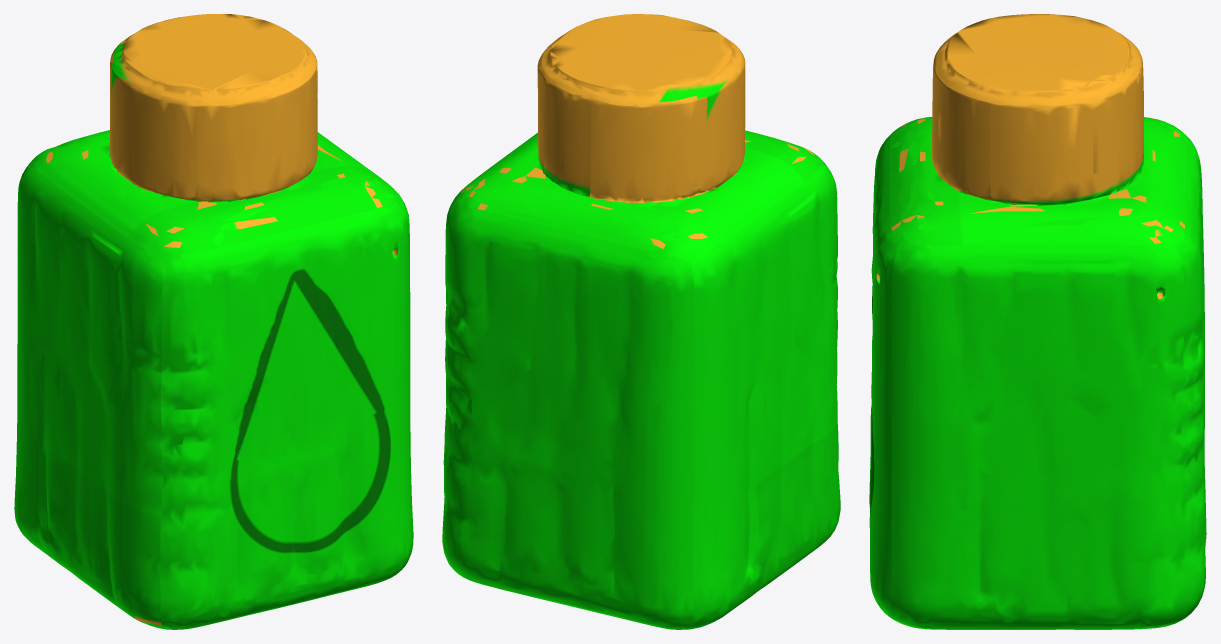
Rendered from mask.glb.
3 renders of one model, left to right at view 1: azimuth 30°, elevation 25°; view 2: azimuth 150°, elevation 25°; view 3: azimuth 270°, elevation 25°, orthographic. The views are drawn at different scales.
Parts seen in each view (by area): view 1: Object_2; view 2: Object_2; view 3: Object_2.
Part boxes in pixels (bbox=[...]): Object_2: bbox=[14, 14, 413, 629]; Object_2: bbox=[442, 14, 840, 629]; Object_2: bbox=[869, 14, 1206, 629].
Bounding box in the file's own units: 0.586 × 0.9994 × 0.5858.
Materials: 1 (1 with a texture image).
